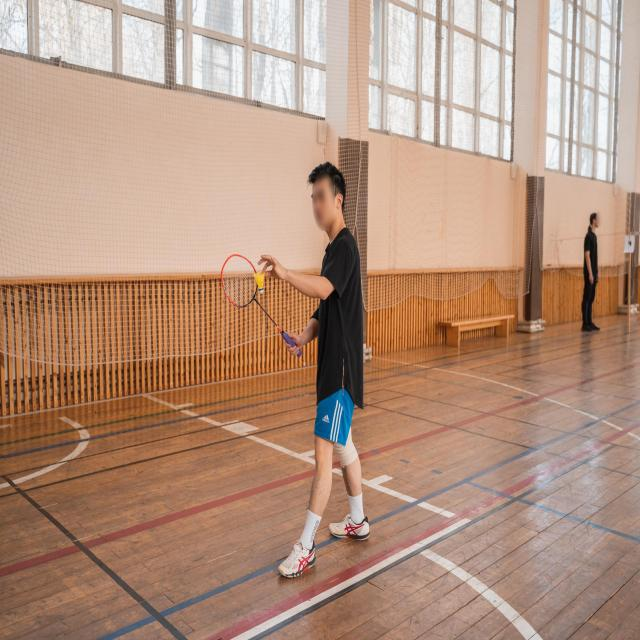Person: (266, 140, 390, 597), (573, 201, 609, 338)
